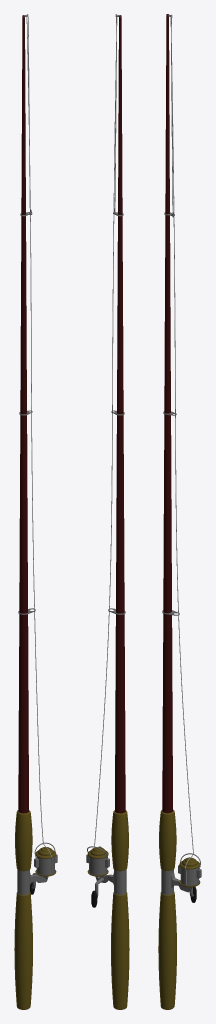
File: fishing_rod.glb
The picture shows the model from 3 angles, left to right: view 1: azimuth 30°, elevation 25°; view 2: azimuth 150°, elevation 25°; view 3: azimuth 330°, elevation 25°; orthographic projection.
Visible parts, largest first — view 1: Object_2, Object_3; view 2: Object_2, Object_3; view 3: Object_2, Object_3.
Part boxes in pixels (x1,y1,x2,y2): Object_2: [14, 14, 52, 1009]; Object_3: [20, 15, 57, 894]; Object_2: [91, 14, 129, 1009]; Object_3: [86, 15, 123, 893]; Object_2: [158, 14, 200, 1009]; Object_3: [163, 14, 201, 894].
Bounding box in the file's own units: 2.15 × 49.77 × 1.42.
1 material, 1 textured.
